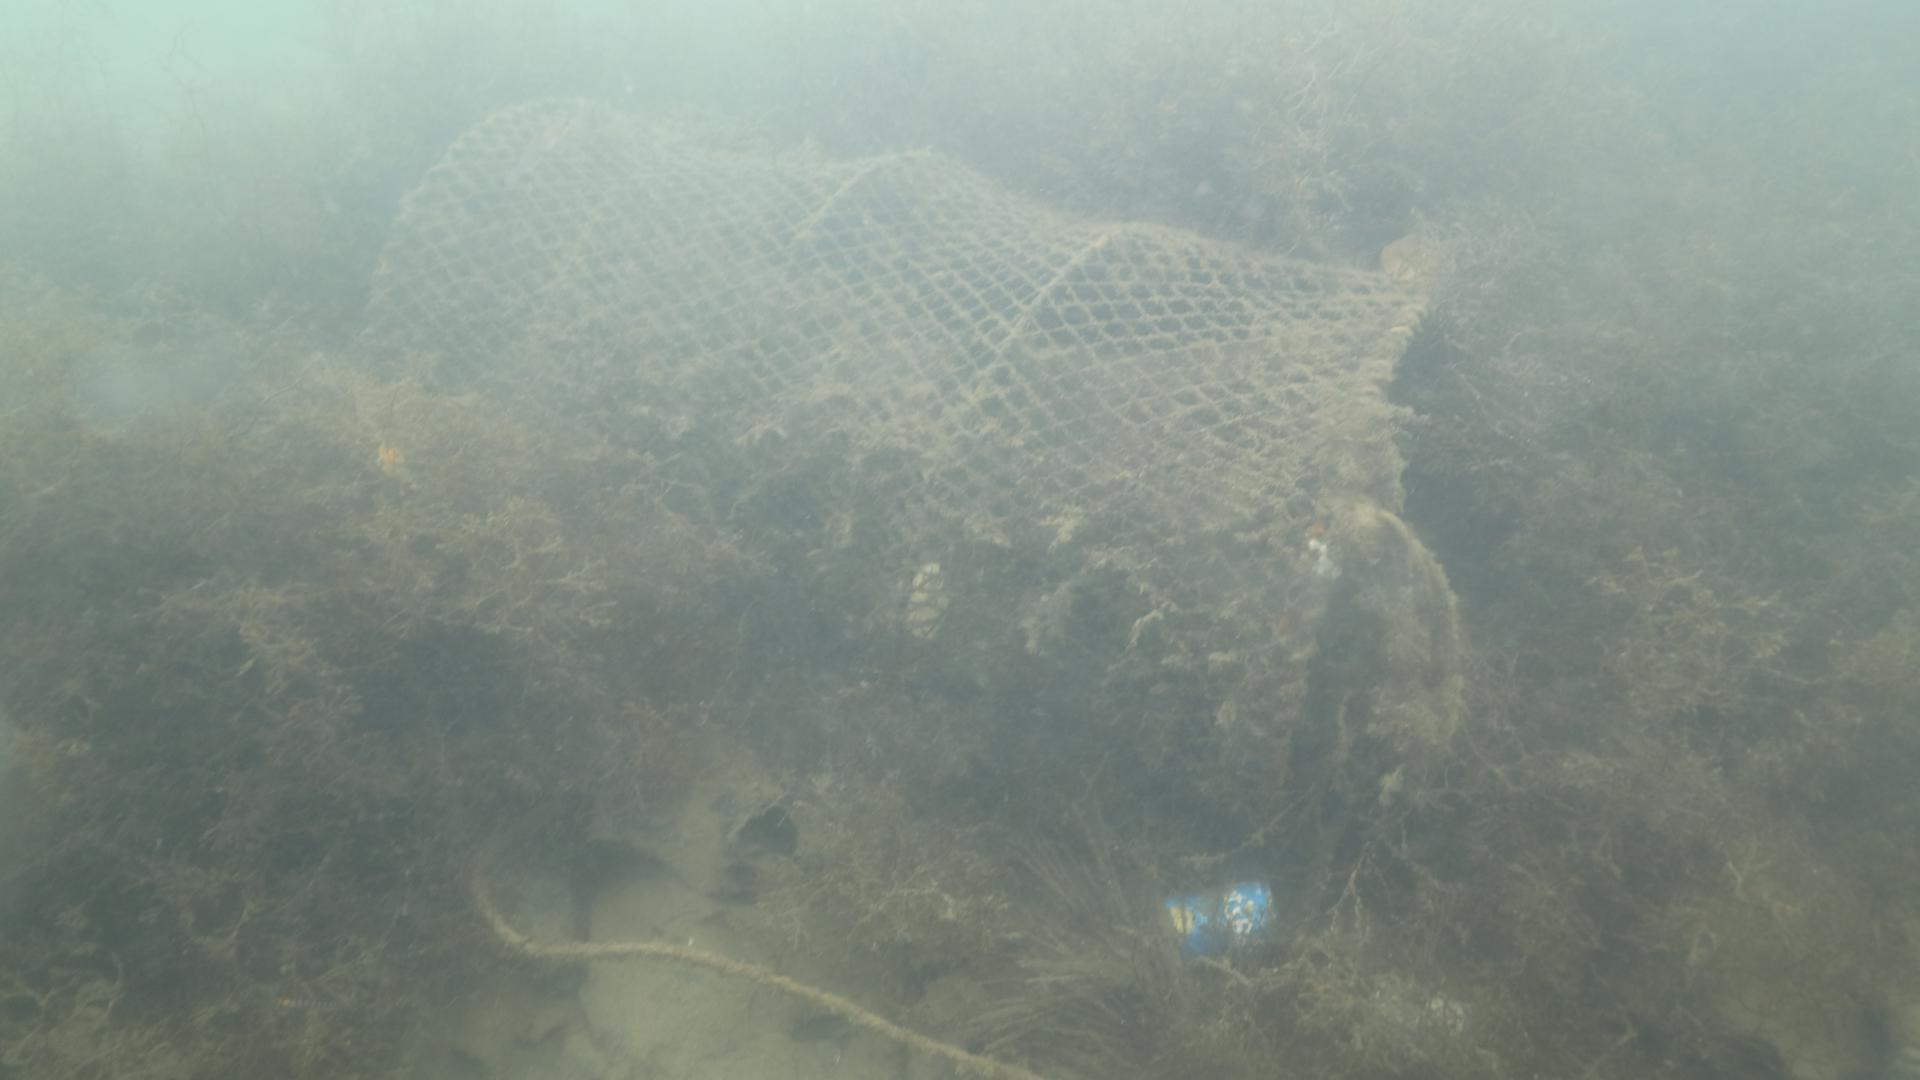rope: (465, 825, 1042, 1080)
spring fish trap: (345, 91, 1451, 848)
